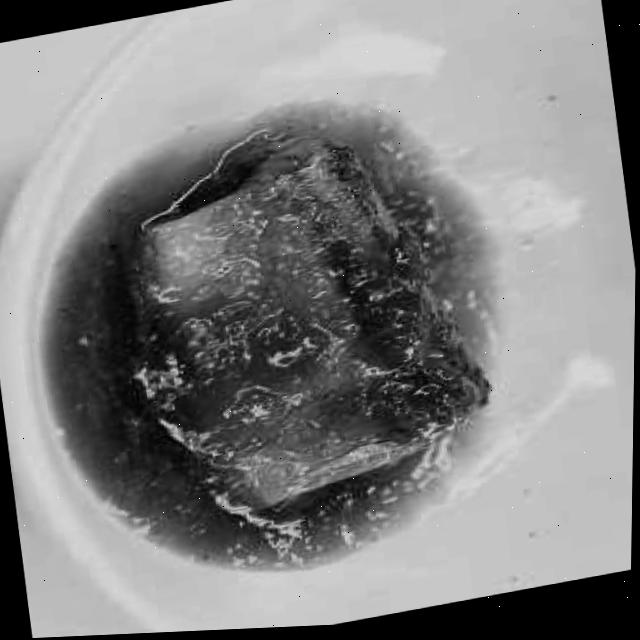熟制海鲜: (51, 80, 547, 597)
